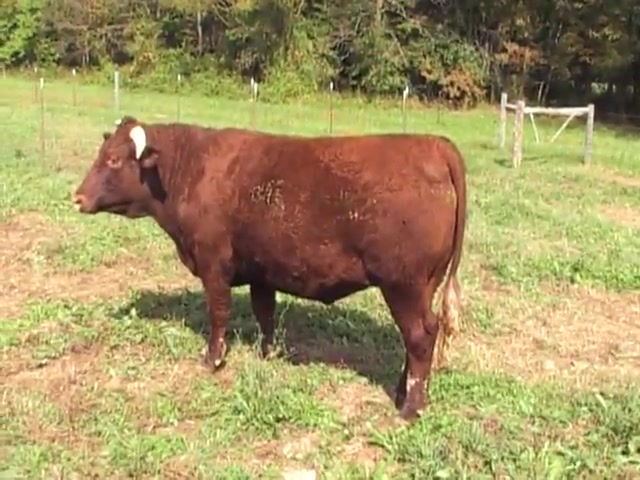cow: (68, 114, 468, 423)
